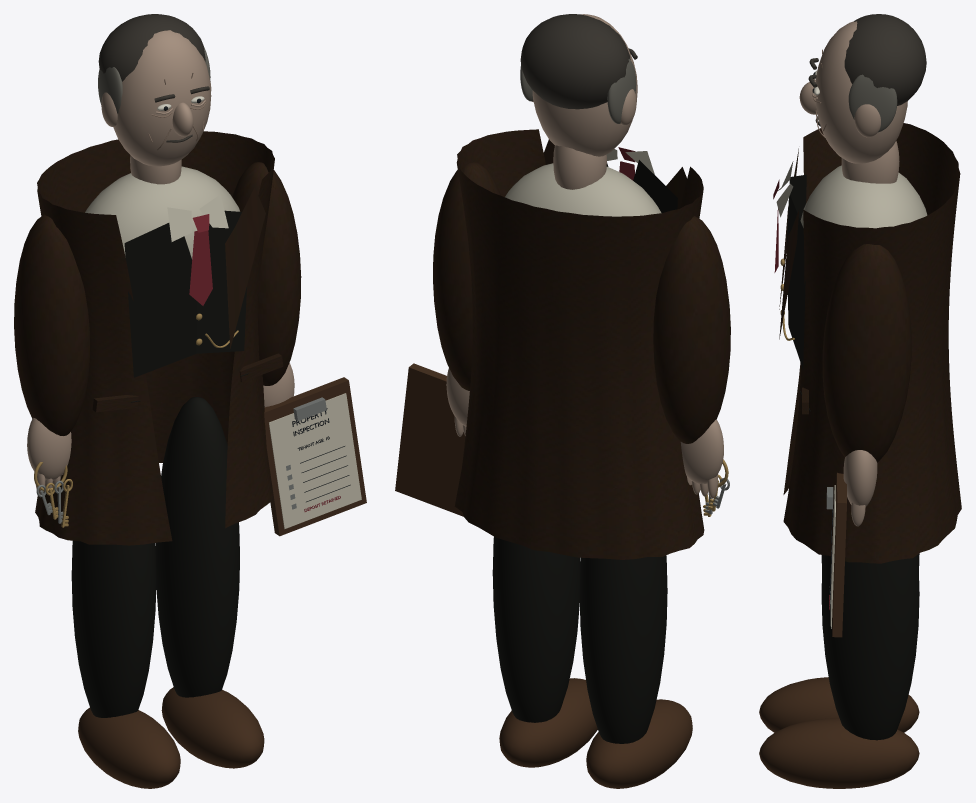
File: landlord.glb
The picture shows the model from 3 angles, left to right: view 1: azimuth 30°, elevation 25°; view 2: azimuth 150°, elevation 25°; view 3: azimuth 270°, elevation 25°; orthographic projection. The views are drawn at different scales.
Parts seen in each view (by area): view 1: landlord / Landlord brown tweed, landlord / Landlord charcoal waistcoat, Sleeve, landlord / Landlord worn leather, head.008 / Landlord skin, Inspection form, Sleeve.001, landlord / Landlord ivory shirt, head.008 / darkFur, Leather clipboard, arm-1 / Landlord skin, landlord / Landlord burgundy silk (+6 smaller); view 2: landlord / Landlord brown tweed, landlord / Landlord charcoal waistcoat, Sleeve, landlord / Landlord worn leather, head.008 / darkFur, Leather clipboard, Sleeve.001, landlord / Landlord ivory shirt, head.008 / Landlord skin, arm-1 / Landlord skin, Neck, head.008 / Landlord gray hair (+1 smaller); view 3: landlord / Landlord brown tweed, landlord / Landlord charcoal waistcoat, Sleeve.001, landlord / Landlord worn leather, head.008 / Landlord skin, landlord / Landlord ivory shirt, head.008 / darkFur, arm1 / Landlord skin, Leather clipboard, head.008 / Landlord gray hair, Neck, Inspection form.
Boxes of the visible parts, left/top/right/bottom form: landlord / Landlord brown tweed: left=35, top=131, right=283, bottom=545; landlord / Landlord charcoal waistcoat: left=71, top=210, right=248, bottom=717; Sleeve: left=14, top=214, right=89, bottom=435; landlord / Landlord worn leather: left=78, top=687, right=264, bottom=788; head.008 / Landlord skin: left=101, top=30, right=211, bottom=166; Inspection form: left=269, top=393, right=361, bottom=528; Sleeve.001: left=232, top=162, right=301, bottom=385; landlord / Landlord ivory shirt: left=85, top=166, right=239, bottom=259; head.008 / darkFur: left=98, top=14, right=209, bottom=142; Leather clipboard: left=264, top=377, right=366, bottom=536; arm-1 / Landlord skin: left=27, top=417, right=71, bottom=494; landlord / Landlord burgundy silk: left=189, top=214, right=212, bottom=305; landlord / Landlord brown tweed: left=454, top=129, right=704, bottom=559; landlord / Landlord charcoal waistcoat: left=492, top=160, right=677, bottom=743; Sleeve: left=653, top=216, right=730, bottom=443; landlord / Landlord worn leather: left=499, top=678, right=692, bottom=788; head.008 / darkFur: left=520, top=14, right=637, bottom=109; Leather clipboard: left=395, top=363, right=465, bottom=516; Sleeve.001: left=433, top=161, right=500, bottom=390; landlord / Landlord ivory shirt: left=505, top=149, right=661, bottom=216; head.008 / Landlord skin: left=531, top=14, right=637, bottom=156; arm-1 / Landlord skin: left=680, top=419, right=723, bottom=498; Neck: left=553, top=145, right=606, bottom=189; head.008 / Landlord gray hair: left=520, top=59, right=636, bottom=123; landlord / Landlord brown tweed: left=779, top=123, right=961, bottom=563; landlord / Landlord charcoal waistcoat: left=786, top=174, right=919, bottom=740; Sleeve.001: left=822, top=244, right=911, bottom=462; landlord / Landlord worn leather: left=759, top=677, right=919, bottom=788; head.008 / Landlord skin: left=799, top=21, right=907, bottom=163; landlord / Landlord ivory shirt: left=776, top=161, right=927, bottom=228; head.008 / darkFur: left=808, top=14, right=926, bottom=126; arm1 / Landlord skin: left=843, top=450, right=877, bottom=526; Leather clipboard: left=832, top=472, right=846, bottom=637; head.008 / Landlord gray hair: left=848, top=74, right=897, bottom=132; Neck: left=841, top=141, right=899, bottom=183; Inspection form: left=830, top=485, right=835, bottom=628.
Size of the model in its own units: 0.8655 by 1.84 by 0.4549.
14 materials, 2 textured.
